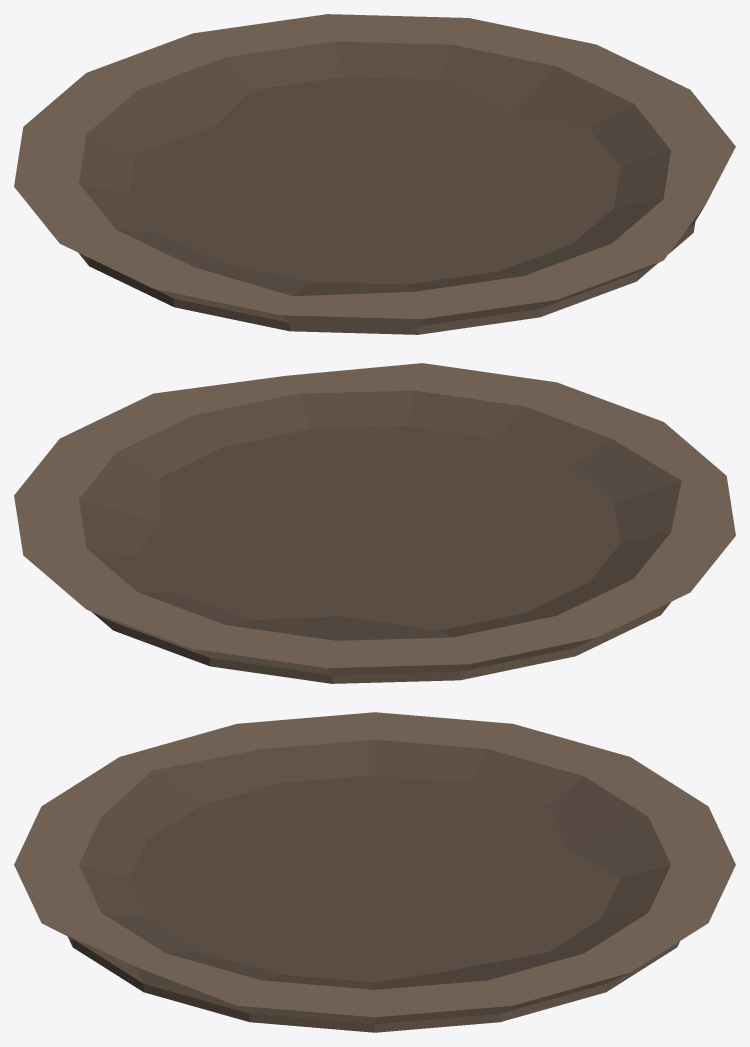
Rendered from Plate.fbx.
The picture shows the model from 3 angles, top to bottom: view 1: azimuth 30°, elevation 25°; view 2: azimuth 150°, elevation 25°; view 3: azimuth 270°, elevation 25°; orthographic projection.
Parts seen in each view (by area): view 1: Plate.002; view 2: Plate.002; view 3: Plate.002.
Part boxes in pixels (bbox=[...]): Plate.002: bbox=[14, 14, 735, 334]; Plate.002: bbox=[14, 363, 735, 683]; Plate.002: bbox=[14, 712, 735, 1032].
Size of the model in its own units: 0.63 by 0.0286 by 0.63.
